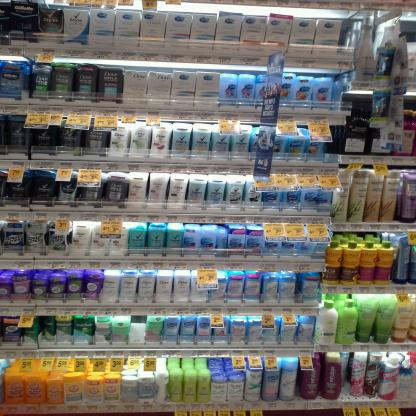Void: (131, 317, 144, 343)
